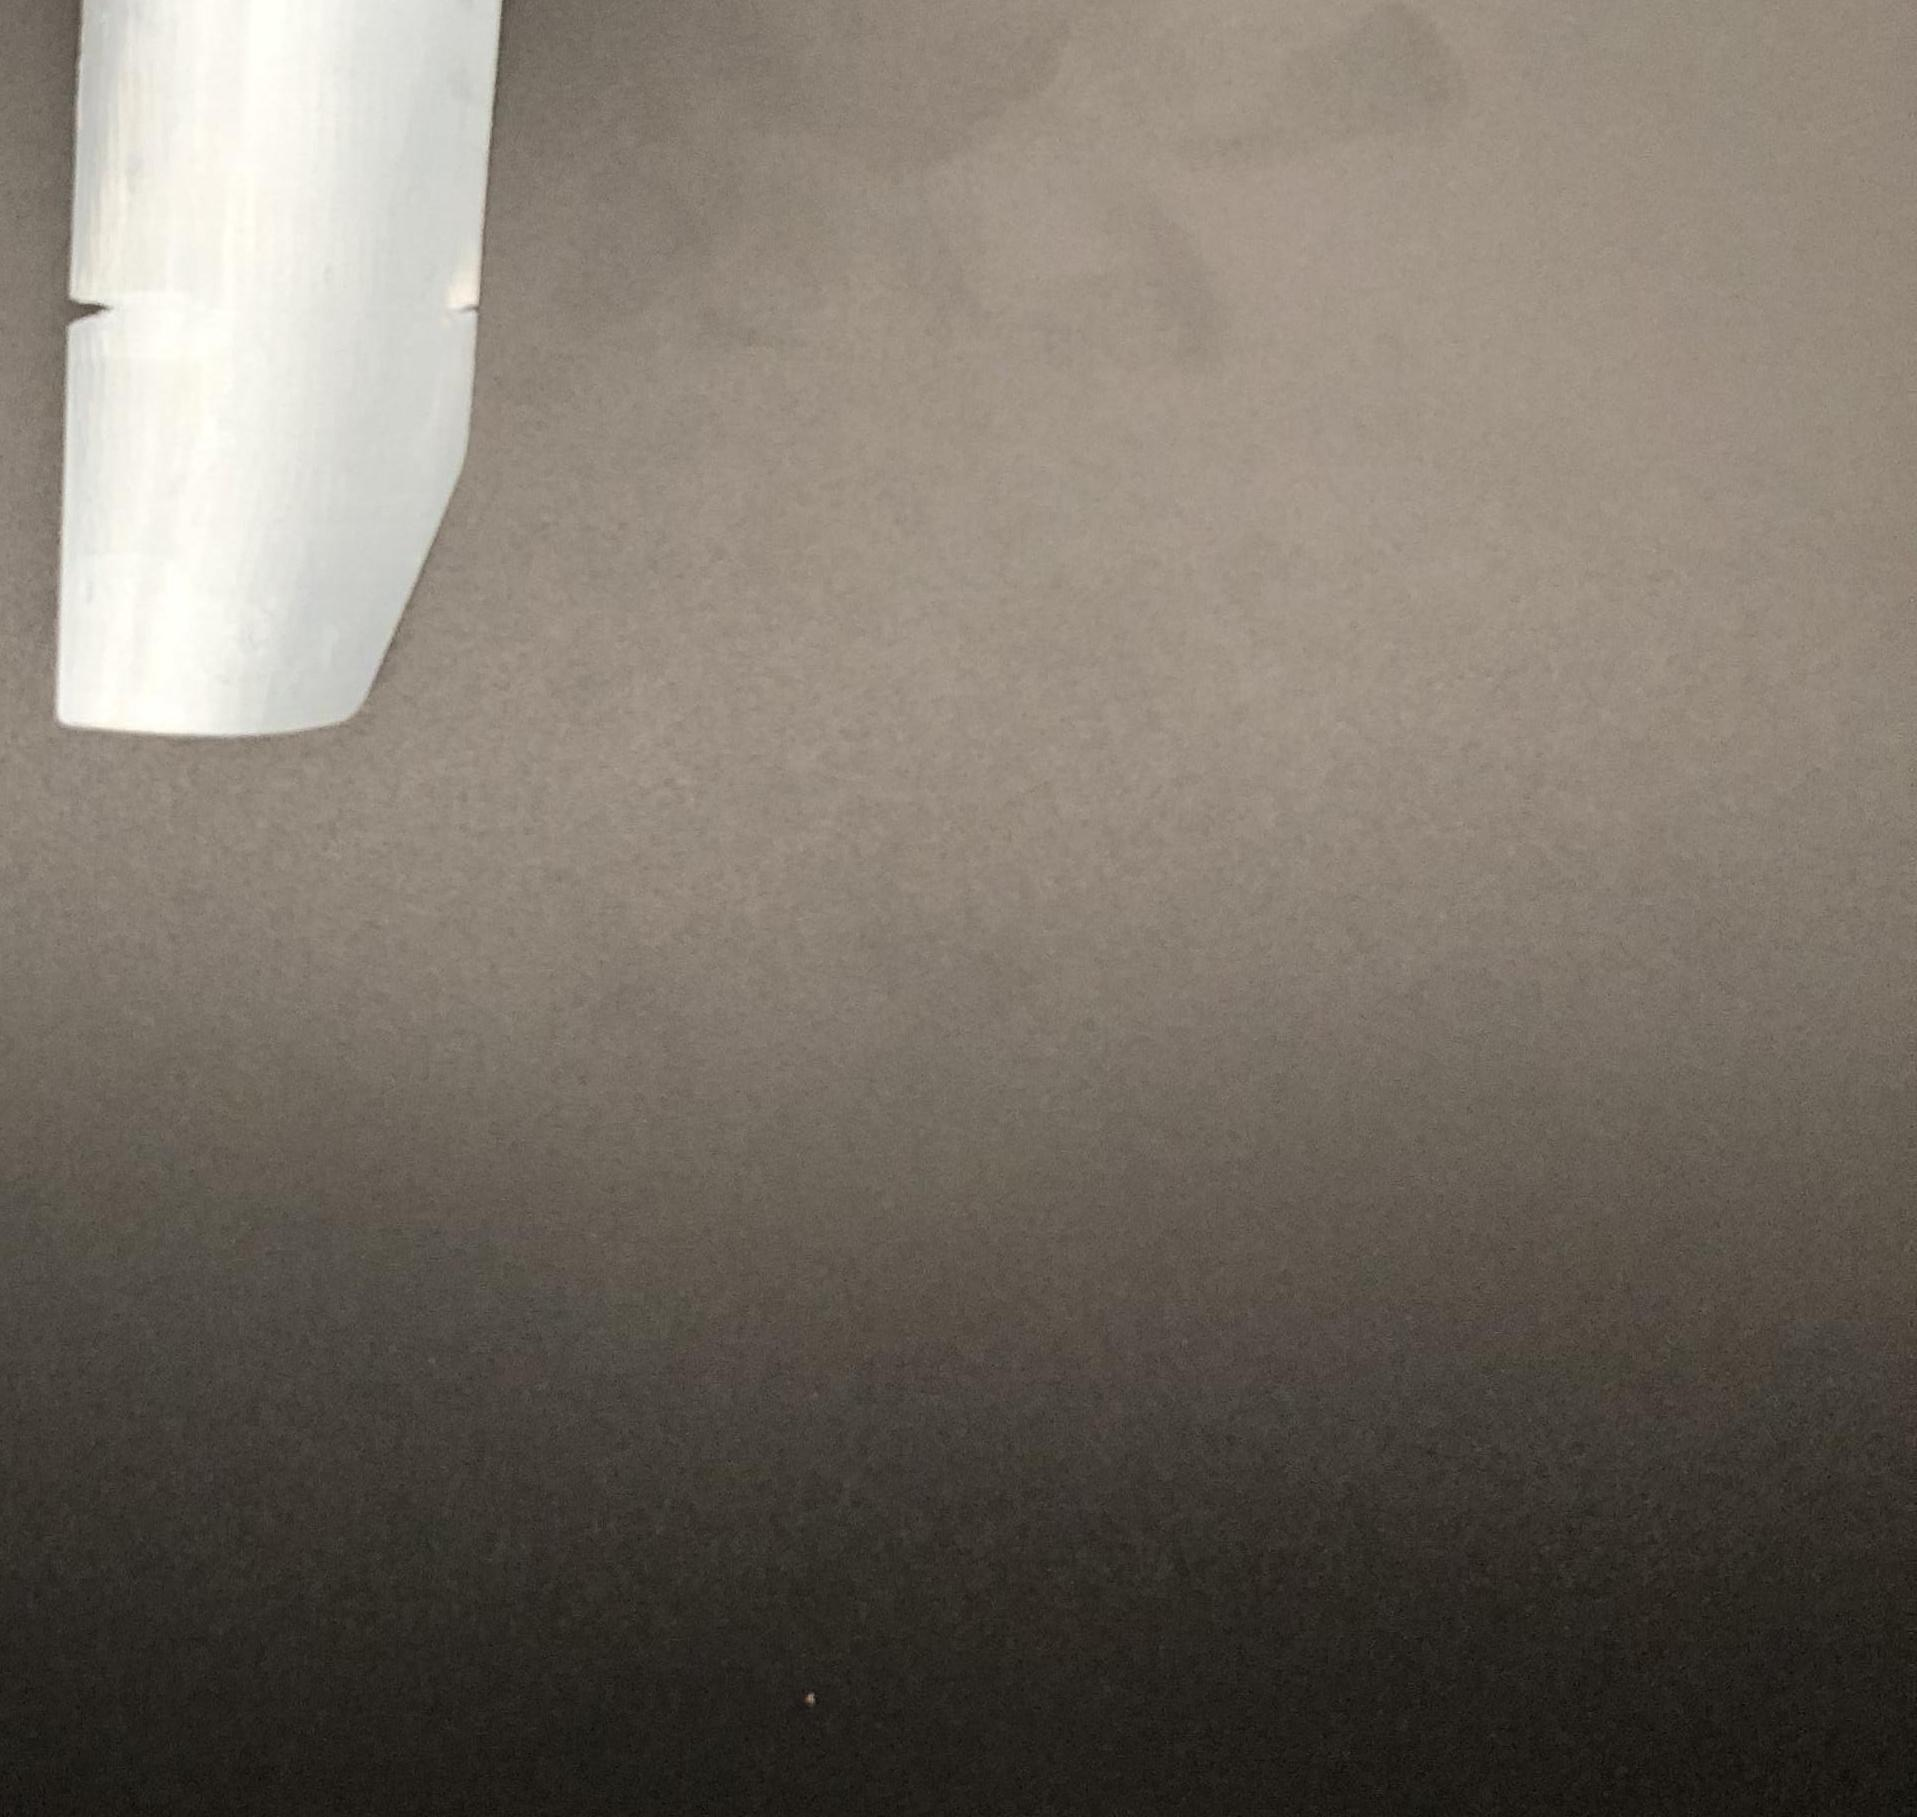groove: (63, 283, 114, 336), (452, 295, 481, 340)
